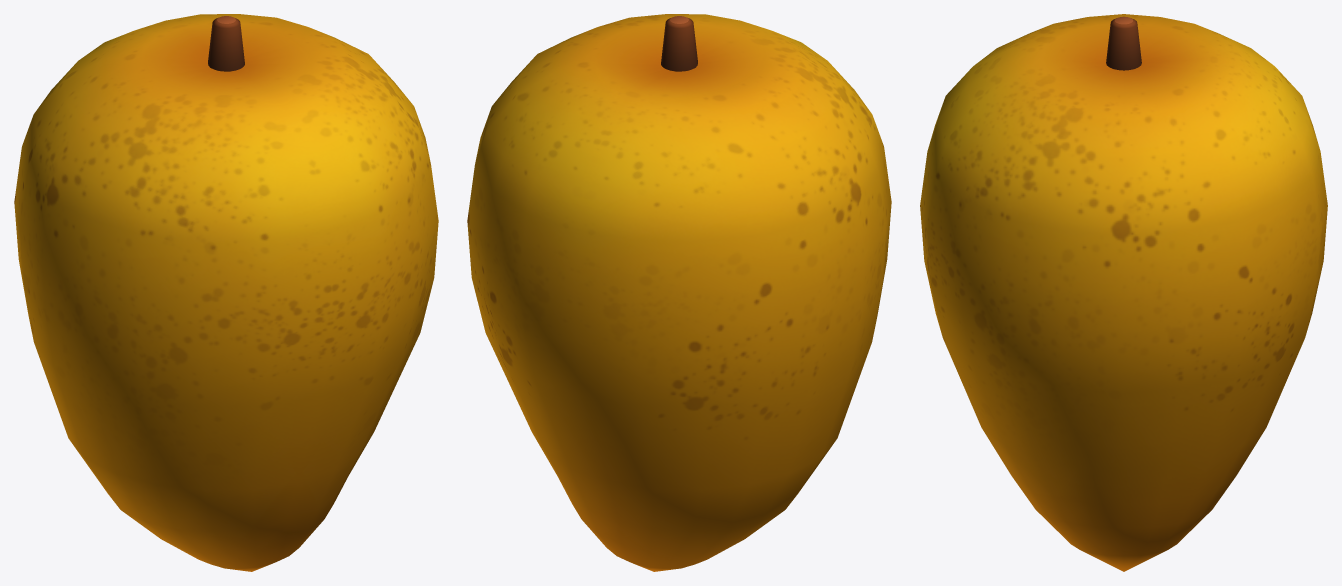
Rendered from Mango_Yellow.fbx.
The picture shows the model from 3 angles, left to right: view 1: azimuth 30°, elevation 25°; view 2: azimuth 150°, elevation 25°; view 3: azimuth 270°, elevation 25°; orthographic projection. The views are drawn at different scales.
Visible parts, largest first — view 1: Mango_Yellow; view 2: Mango_Yellow; view 3: Mango_Yellow.
Part boxes in pixels (left/top/right/bottom): Mango_Yellow: left=14, top=14, right=438, bottom=571; Mango_Yellow: left=467, top=14, right=891, bottom=571; Mango_Yellow: left=920, top=14, right=1327, bottom=571.
Size of the model in its own units: 30.26 by 43.69 by 29.94.
